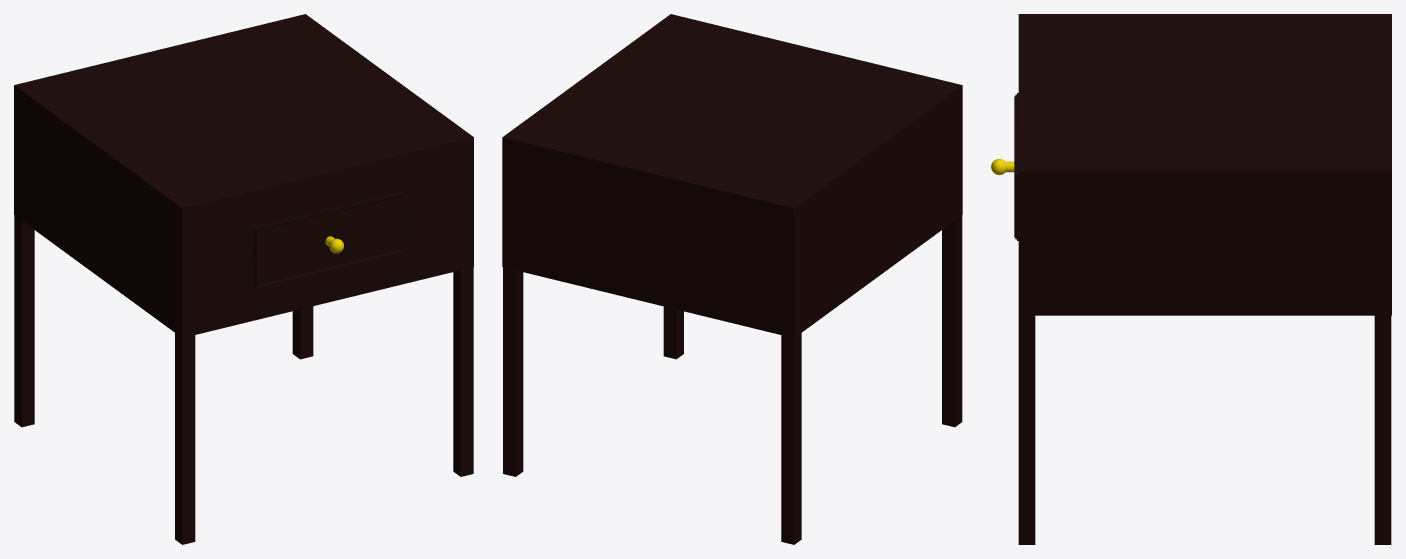
The model's file is Table_Basse.FBX.
3 renders of one model, left to right at view 1: azimuth 30°, elevation 25°; view 2: azimuth 150°, elevation 25°; view 3: azimuth 270°, elevation 25°, orthographic. The views are drawn at different scales.
Visible parts, largest first — view 1: Table basse, pied002, pied001, pied003, pied; view 2: Table basse, pied003, pied, pied002, pied001; view 3: Table basse, pied, pied001.
Part boxes in pixels (bbox=[...]): Table basse: bbox=[14, 14, 473, 337]; pied002: bbox=[175, 333, 195, 544]; pied001: bbox=[453, 267, 473, 476]; pied003: bbox=[14, 215, 34, 427]; pied: bbox=[292, 306, 313, 359]; Table basse: bbox=[502, 14, 962, 337]; pied003: bbox=[781, 333, 801, 544]; pied: bbox=[503, 267, 523, 476]; pied002: bbox=[942, 215, 962, 427]; pied001: bbox=[663, 306, 683, 359]; Table basse: bbox=[1014, 14, 1391, 315]; pied: bbox=[1374, 315, 1391, 544]; pied001: bbox=[1018, 315, 1035, 544].
Size of the model in its own units: 17.72 by 19.55 by 19.02.
